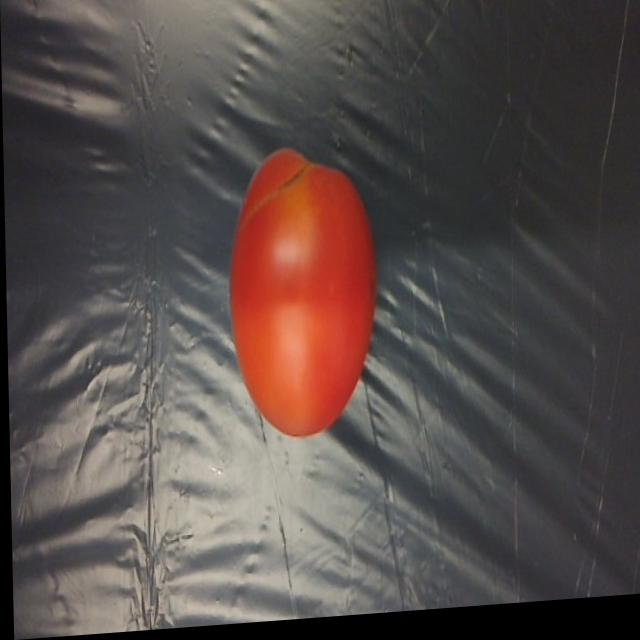sari: (213, 150, 381, 460)
